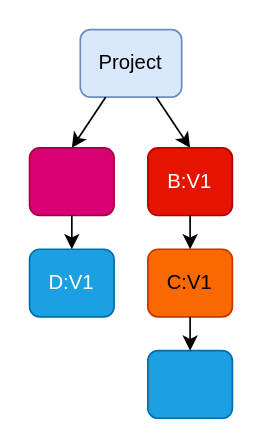
Image size: 262x448. Some labels were removed from this diagram. The centre of each missing label's shape, as x and y in pixels:
D:V2: the point at 189,383
E:V1: the point at 71,180
